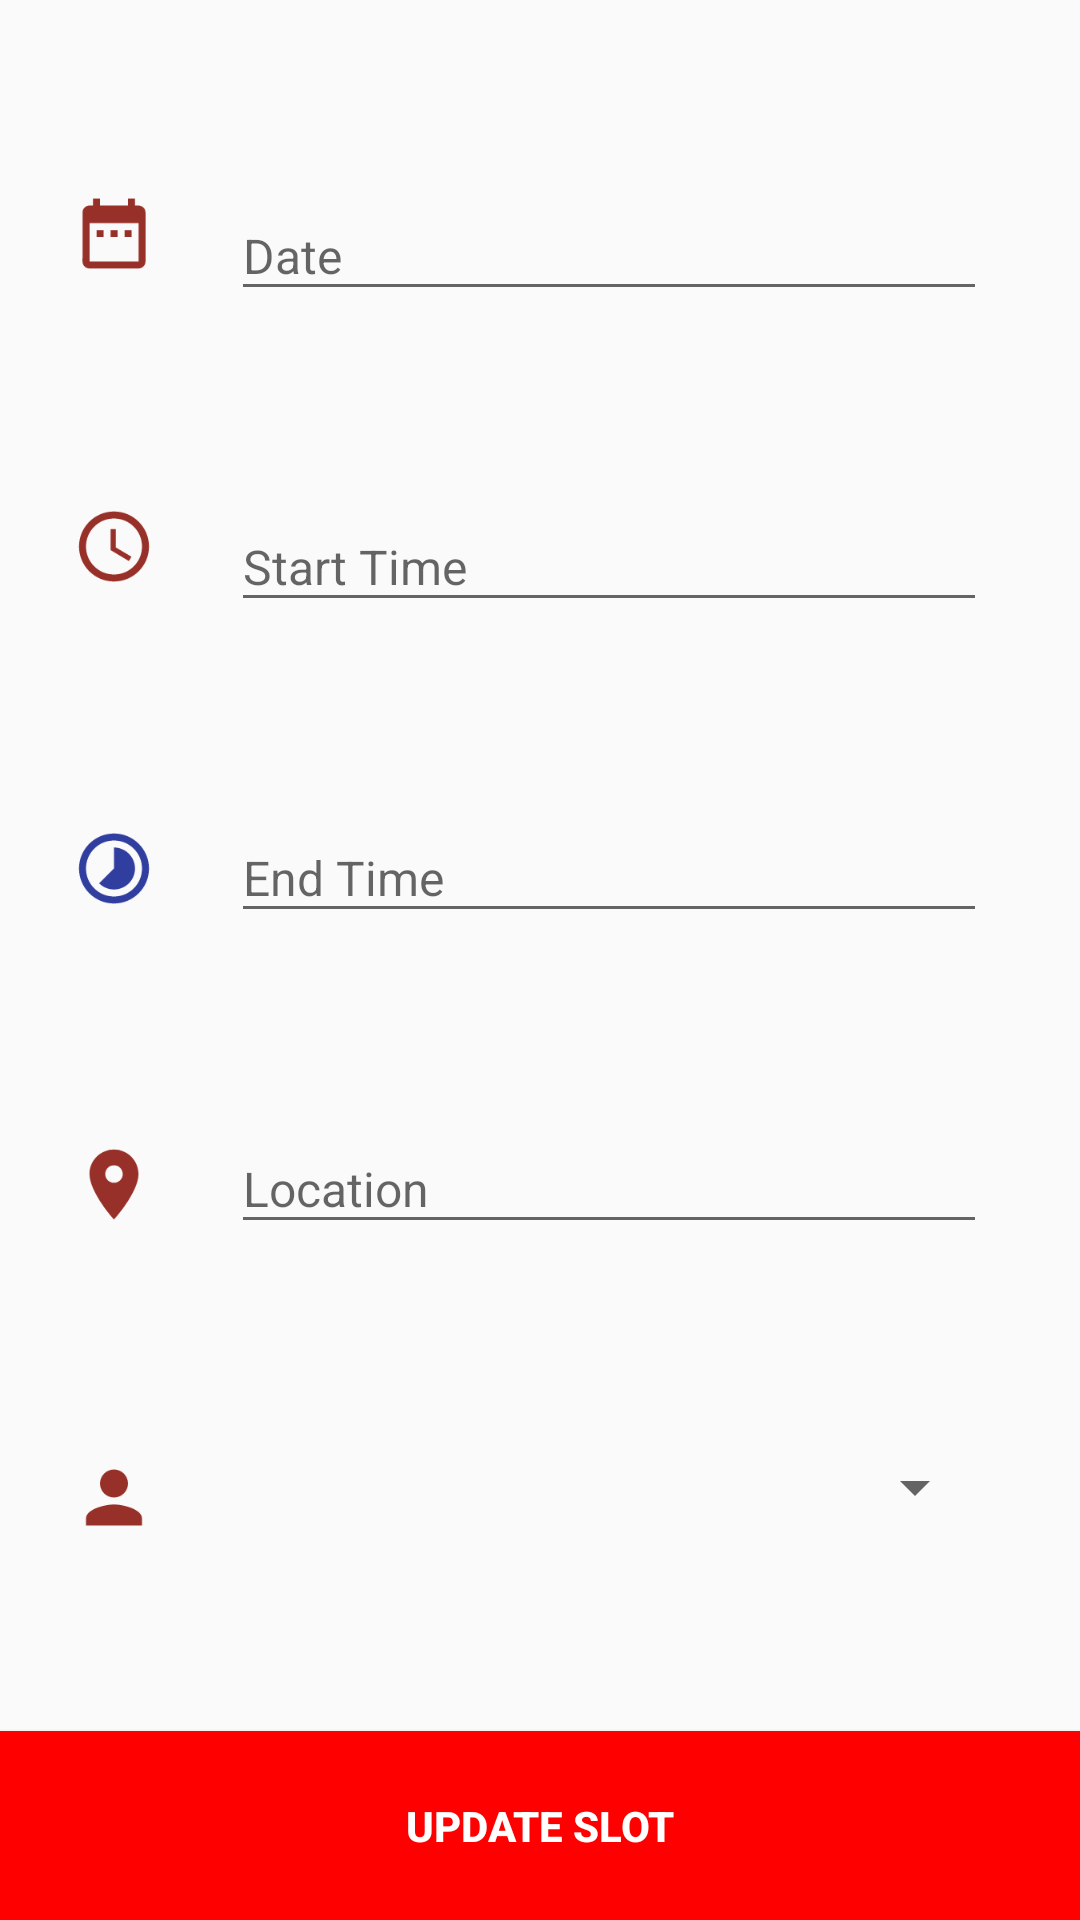

Locate icon controls on the screen. Image size 1080px x 1920px, boxes as (x1=x1, y1=y1, x2=x2, y2=y2).
access time: (x1=78, y1=511, x2=150, y2=582)
person: (x1=85, y1=1469, x2=143, y2=1526)
timelapse: (x1=78, y1=833, x2=150, y2=904)
